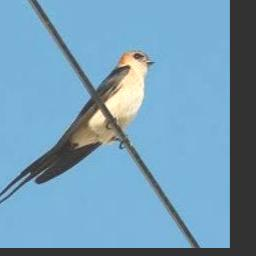Swallow: (0, 50, 156, 206)
